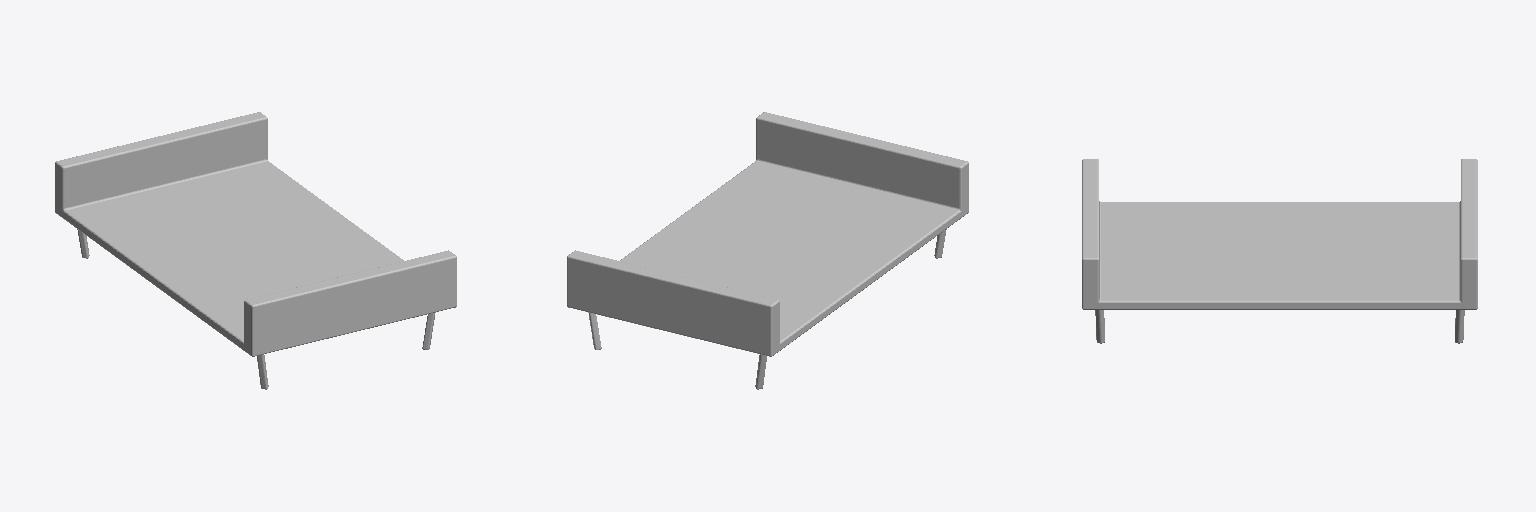
Rendered from bed.obj.
3 views of the same model, side by side, from view 1: azimuth 30°, elevation 25°; view 2: azimuth 150°, elevation 25°; view 3: azimuth 270°, elevation 25° (orthographic).
Parts seen in each view (by area): view 1: bed_Cube.004; view 2: bed_Cube.004; view 3: bed_Cube.004.
Part boxes in pixels (x1,y1,x2,y2): bed_Cube.004: (55,112,456,389); bed_Cube.004: (567,112,968,389); bed_Cube.004: (1082,159,1477,343).
Bounding box in the file's own units: 1.2 × 0.5295 × 2.